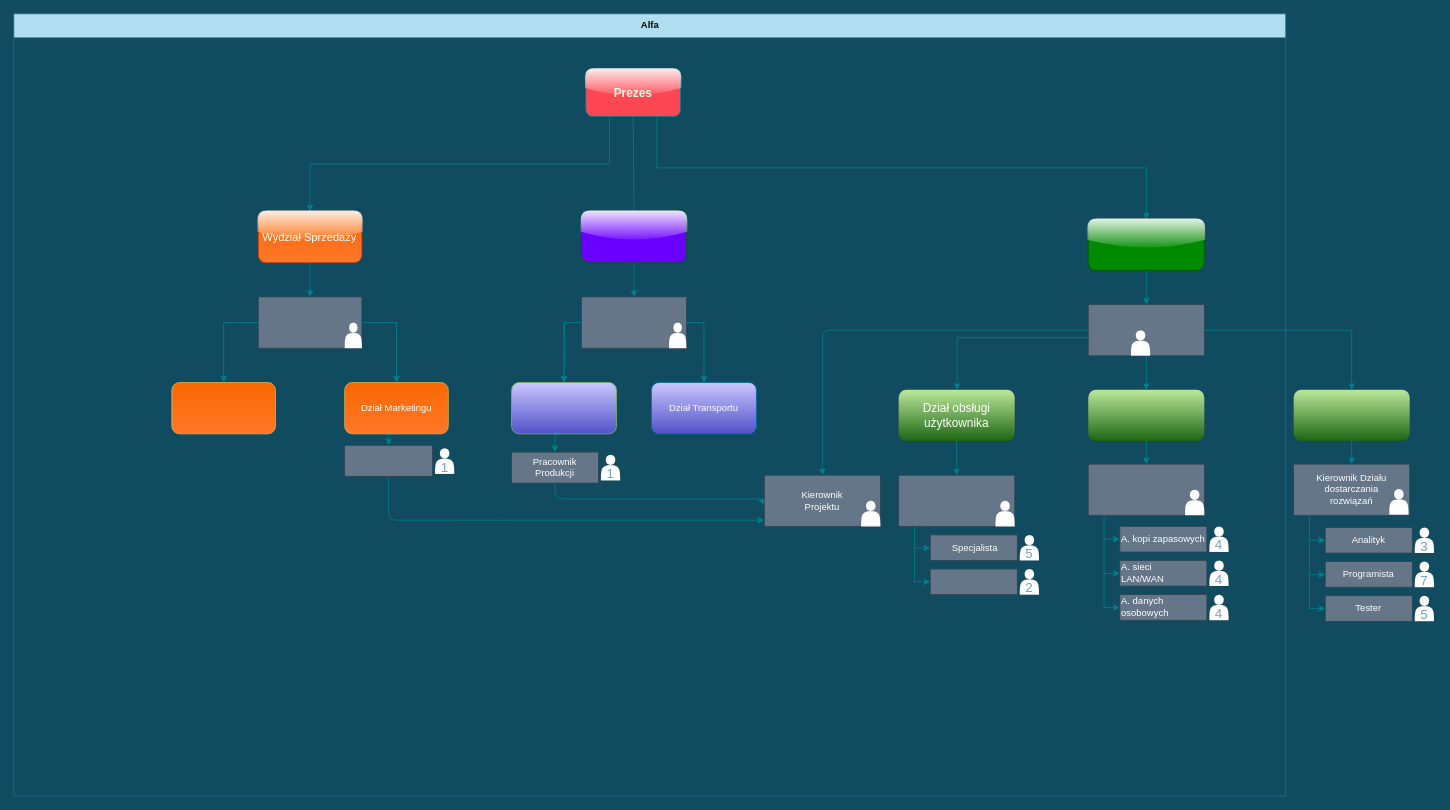
Some shapes in this 1450 by 810 pixel diagram are drawn without their labels. Each missing label, with the box of its shape:
Dyrektor IT: (1087, 304, 1204, 356)
Dyrektor operacyjny: (581, 296, 687, 348)
Dyrektor Sprzedaży: (257, 296, 362, 348)
Dział administracji systemami: (1088, 389, 1204, 441)
Dział dostarczania rozwiązań: (1293, 389, 1409, 441)
Dział Obsługi Klienta: (171, 382, 275, 434)
Dział Produkcji: (511, 382, 617, 434)
Ekspert: (929, 568, 1017, 595)
Kierownik Działu administracji systemami: (1087, 463, 1204, 515)
Kierownik Działu obsługi użytkownika: (898, 474, 1015, 526)
Pracownik Marketingu: (344, 445, 433, 476)
Wydział IT: (1087, 218, 1204, 270)
Wydział Operacji: (581, 211, 687, 263)
